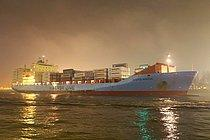Ship: (9, 50, 201, 99)
